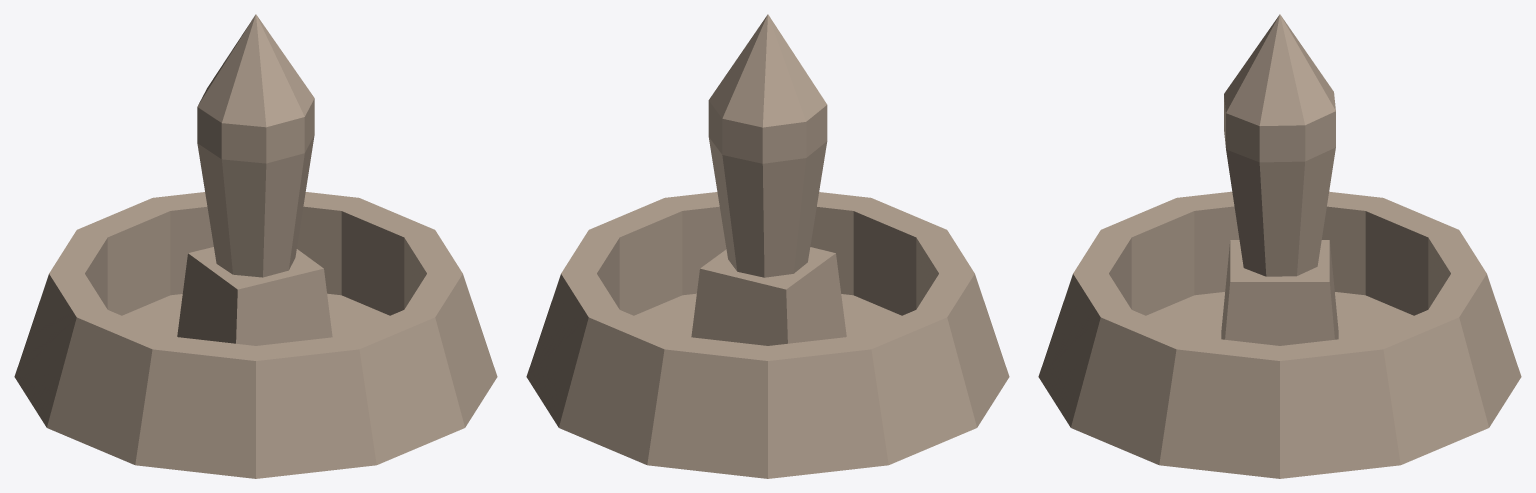
Rendered from LP_Fountain_G_Col.fbx.
3 renders of one model, left to right at view 1: azimuth 30°, elevation 25°; view 2: azimuth 150°, elevation 25°; view 3: azimuth 270°, elevation 25°, orthographic.
Parts seen in each view (by area): view 1: LP_Fountain_G_Col; view 2: LP_Fountain_G_Col; view 3: LP_Fountain_G_Col.
Part boxes in pixels (box(x1,y1,x2,y2)): LP_Fountain_G_Col: box(14, 14, 497, 478); LP_Fountain_G_Col: box(526, 14, 1009, 478); LP_Fountain_G_Col: box(1038, 14, 1521, 478).
Size of the model in its own units: 478 by 396 by 478.
